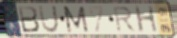7: (88, 5, 105, 34)
B: (17, 5, 41, 34)
H: (132, 4, 160, 35)
M: (61, 5, 91, 34)
R: (112, 6, 138, 34)
U: (38, 4, 61, 34)
